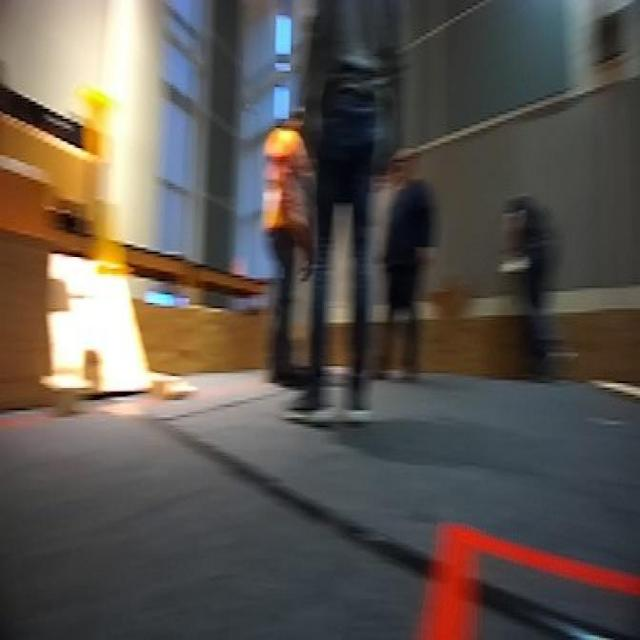frc_cone: (81, 80, 119, 162), (98, 199, 132, 279)
